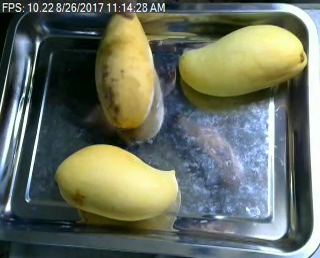Mango: (55, 144, 180, 220), (177, 25, 307, 97), (96, 9, 154, 128)
